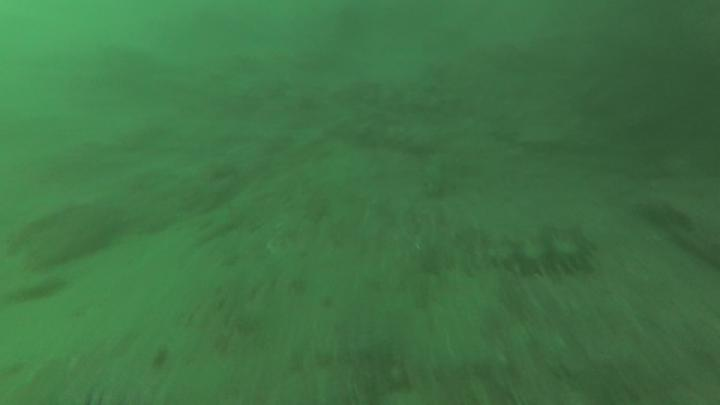holothurian: (496, 240, 589, 279), (425, 158, 445, 198)
